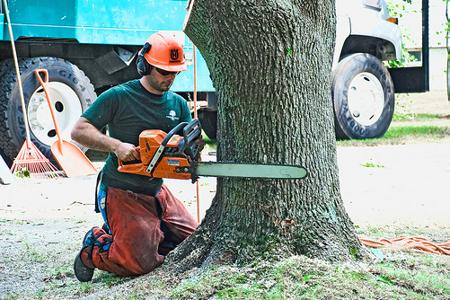person: (73, 31, 204, 284)
